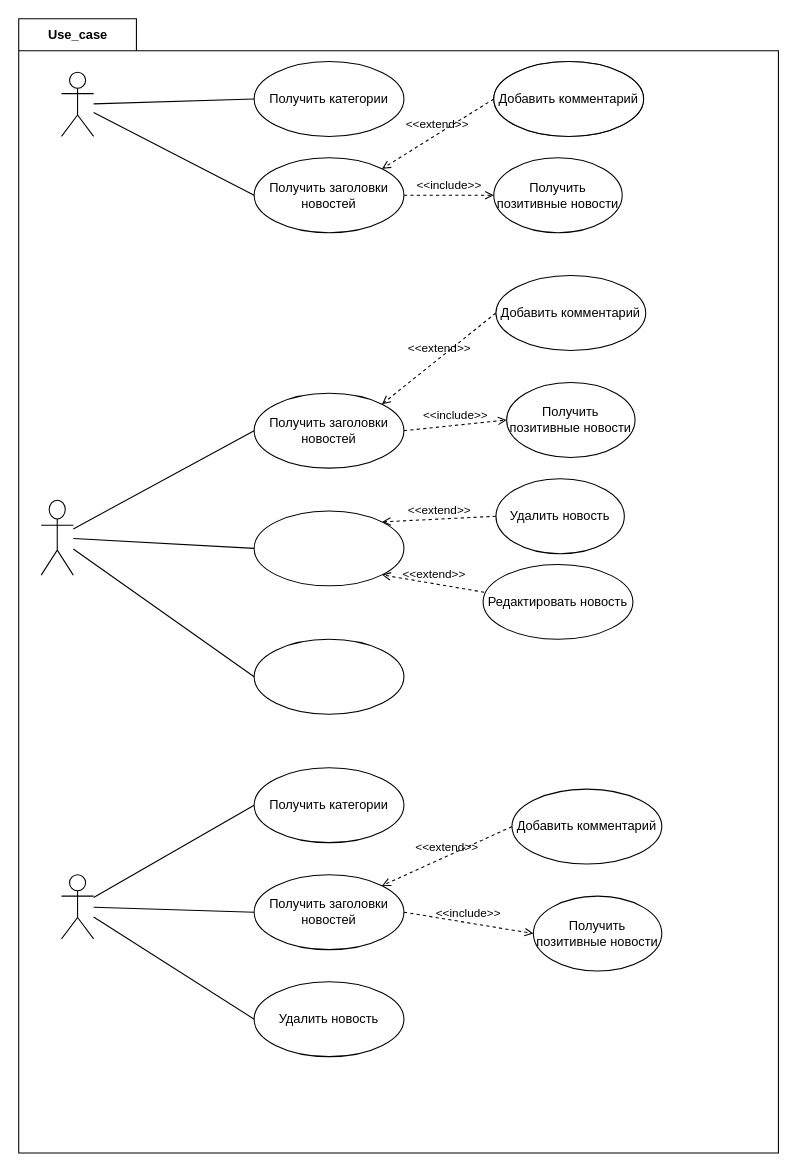
The diagram is 797 pixels wide and 1172 high, and some of its shapes have lost their labels. The shapes that lost their labels are listed below. From the top down, each one's centre as x and y in pixels, then its label:
the point at 77,103: Читатель
the point at 56,537: Автор
the point at 328,548: Получить свои новости
the point at 328,676: Создать новость
the point at 77,906: Администратор
